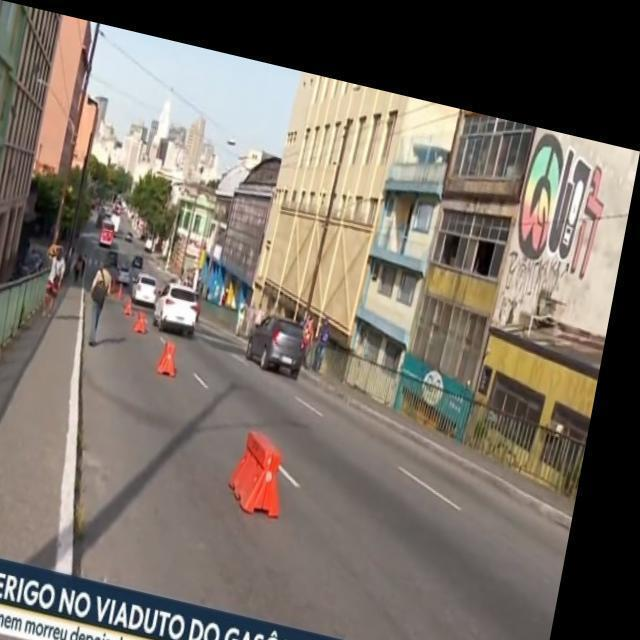nonspitting: (519, 133, 607, 280)
